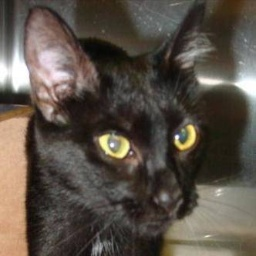cat: (19, 9, 214, 256)
